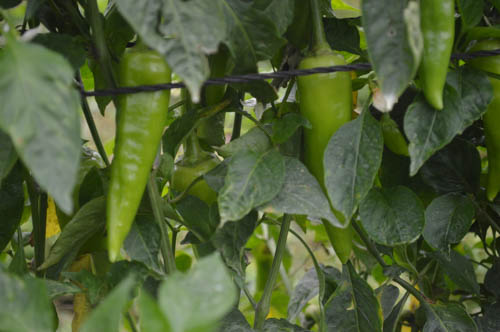ChiliPepper: (105, 51, 171, 259), (296, 57, 360, 264), (415, 3, 456, 112)
